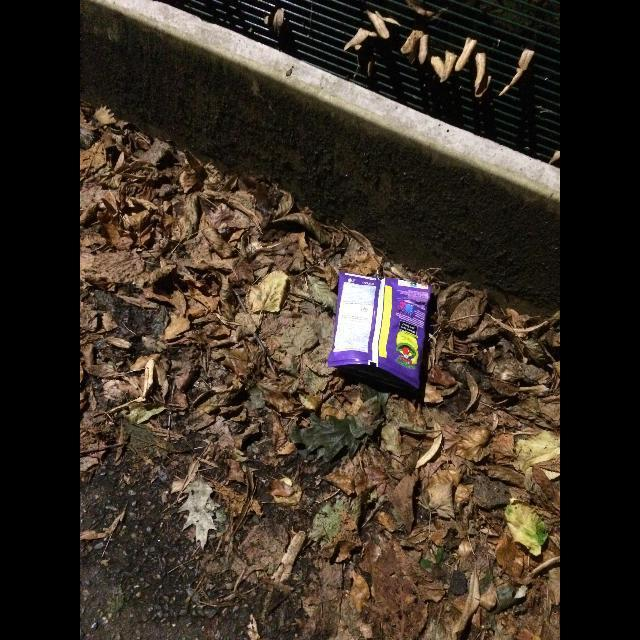Plastic: (328, 273, 430, 392)
